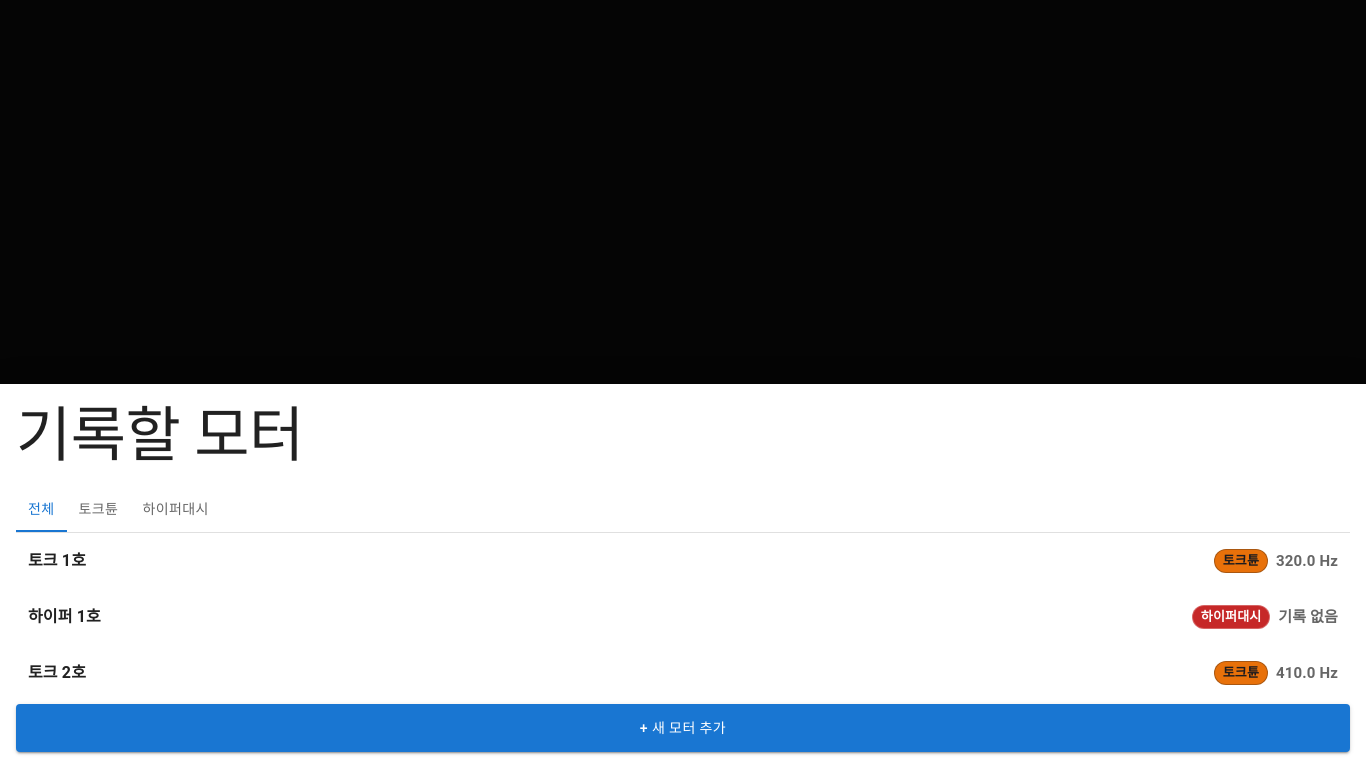
Test: MotorPickSheet (R39 — 종류 탭 필터 + 상시 등록 버튼) › 종류 탭 선택 — 그 종류 행만 남고 다른 종류 행은 사라진다
Click the tab "하이퍼대시" at [176, 510], box top-left (130, 488), bottom-right (221, 532)
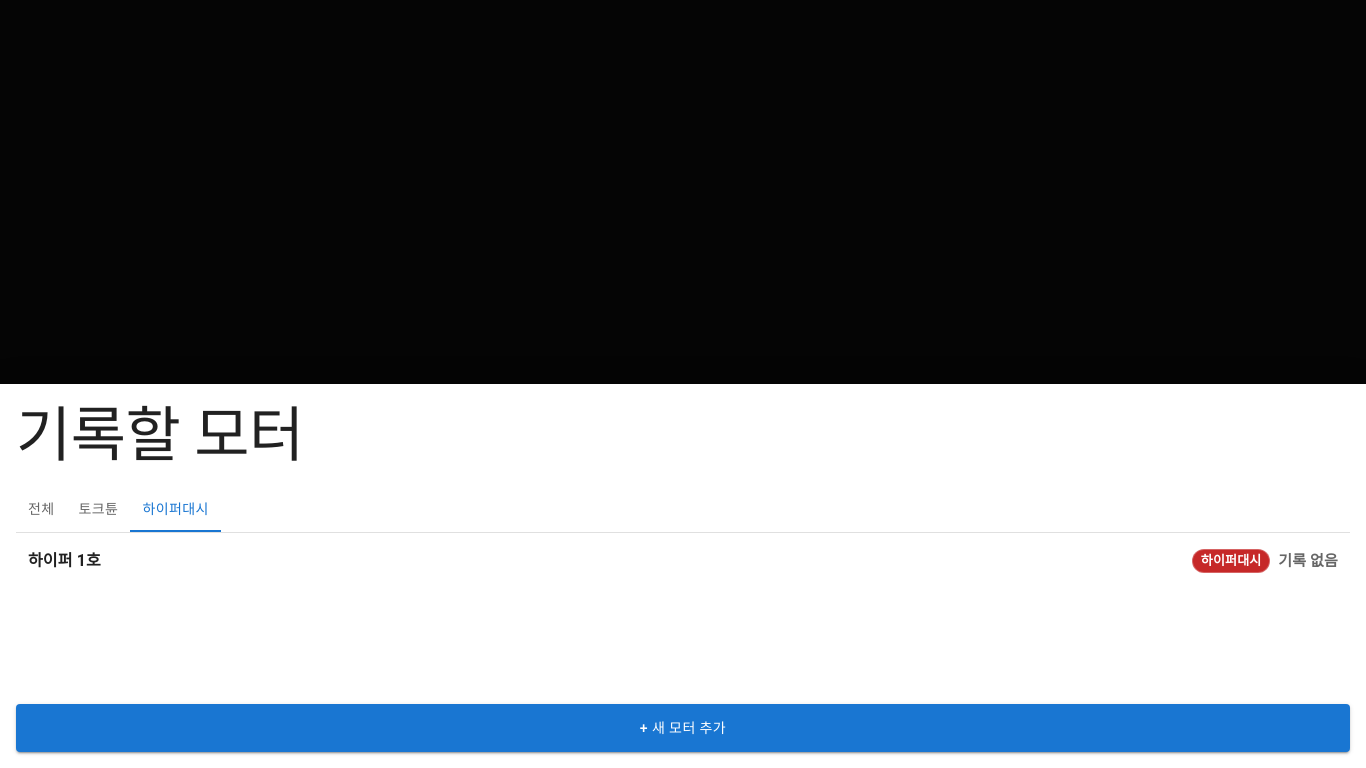
Expected: the text "하이퍼 1호" is shown, top-left (28, 551), bottom-right (101, 570)
Expected: the button "토크 1호" is gone
Expected: the button "토크 2호" is gone
// [전체]로 복귀하면 전 행이 돌아온다 (단일 선택 탭 계약)
Click the tab "전체" at [41, 510], box top-left (16, 488), bottom-right (67, 532)
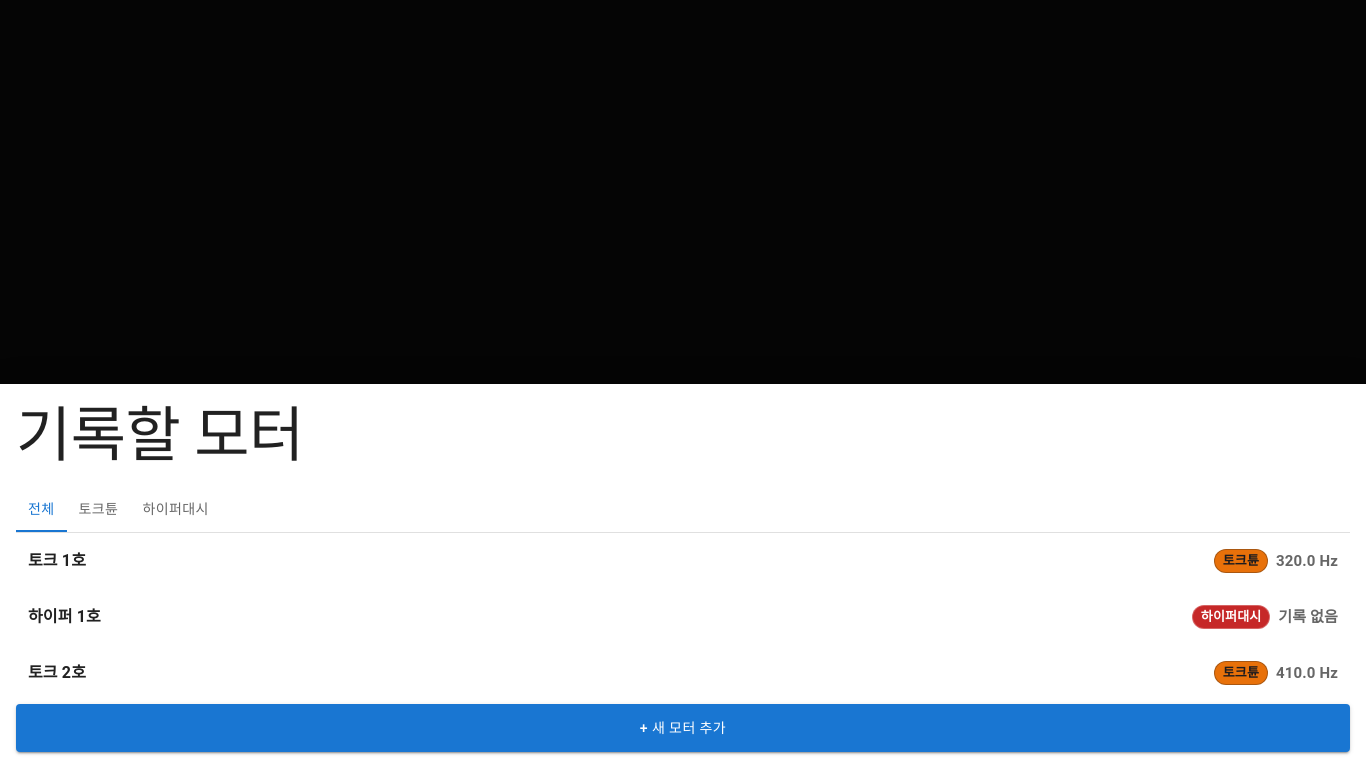
Expected: the text "하이퍼 1호" is shown, top-left (28, 607), bottom-right (101, 626)
Expected: the text "토크 1호" is shown, top-left (28, 551), bottom-right (86, 570)
